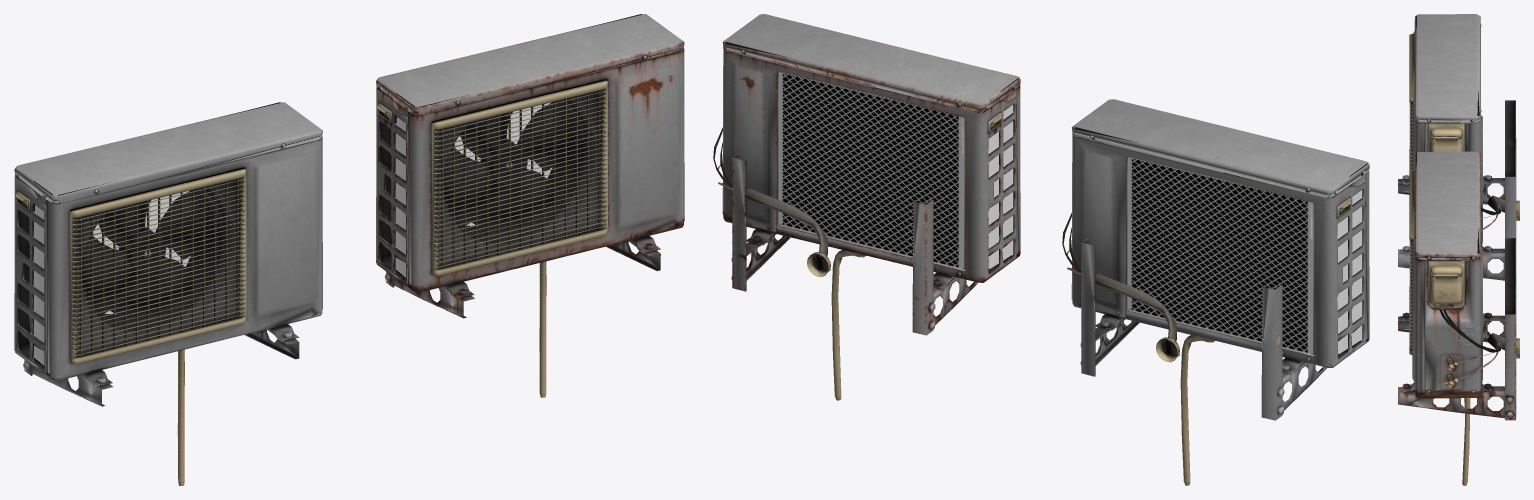
The model's file is ac_unit.glb.
3 renders of one model, left to right at view 1: azimuth 30°, elevation 25°; view 2: azimuth 150°, elevation 25°; view 3: azimuth 270°, elevation 25°, orthographic. The views are drawn at different scales.
Visible parts, largest first — view 1: exterior_aircon_unit_rusted, exterior_aircon_unit; view 2: exterior_aircon_unit_rusted, exterior_aircon_unit; view 3: exterior_aircon_unit_rusted, exterior_aircon_unit.
Boxes of the visible parts, left/top/right/bottom form: exterior_aircon_unit_rusted: left=376, top=14, right=684, bottom=397; exterior_aircon_unit: left=14, top=102, right=322, bottom=485; exterior_aircon_unit_rusted: left=713, top=14, right=1020, bottom=400; exterior_aircon_unit: left=1062, top=99, right=1369, bottom=485; exterior_aircon_unit_rusted: left=1398, top=151, right=1519, bottom=485; exterior_aircon_unit: left=1398, top=14, right=1519, bottom=280.
Bounding box in the file's own units: 1.8 × 0.9279 × 0.3742.
Materials: 4 (4 with a texture image).
